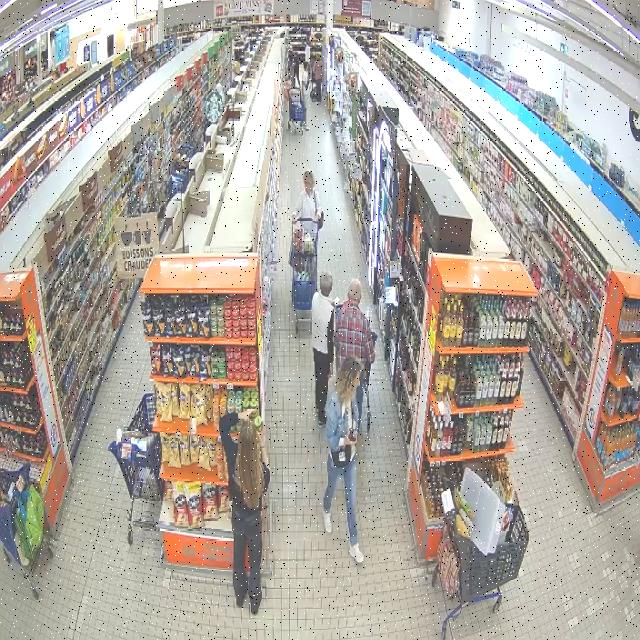article: (254, 415, 263, 432)
bags: (331, 445, 352, 467), (314, 189, 323, 230)
hands: (239, 409, 253, 420), (345, 433, 357, 444), (258, 428, 265, 446), (332, 296, 340, 307), (292, 213, 297, 223), (329, 364, 332, 377)
person: (220, 411, 269, 614), (323, 357, 363, 563), (334, 279, 375, 415), (311, 271, 334, 427), (292, 171, 323, 235)
